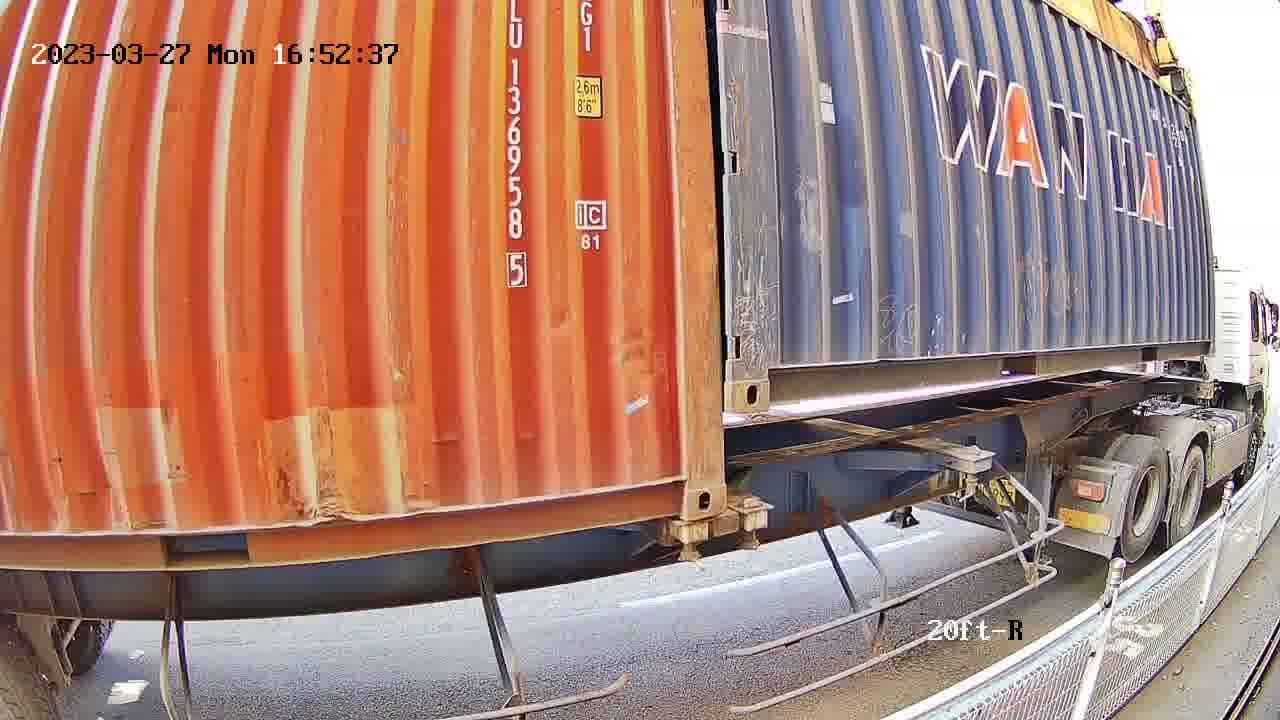Cone: (732, 495, 770, 552), (666, 519, 710, 567)
Hole_L: (730, 345, 801, 413)
Hole_R: (644, 441, 726, 518)
Tire: (1120, 439, 1170, 565), (1174, 448, 1205, 542)
